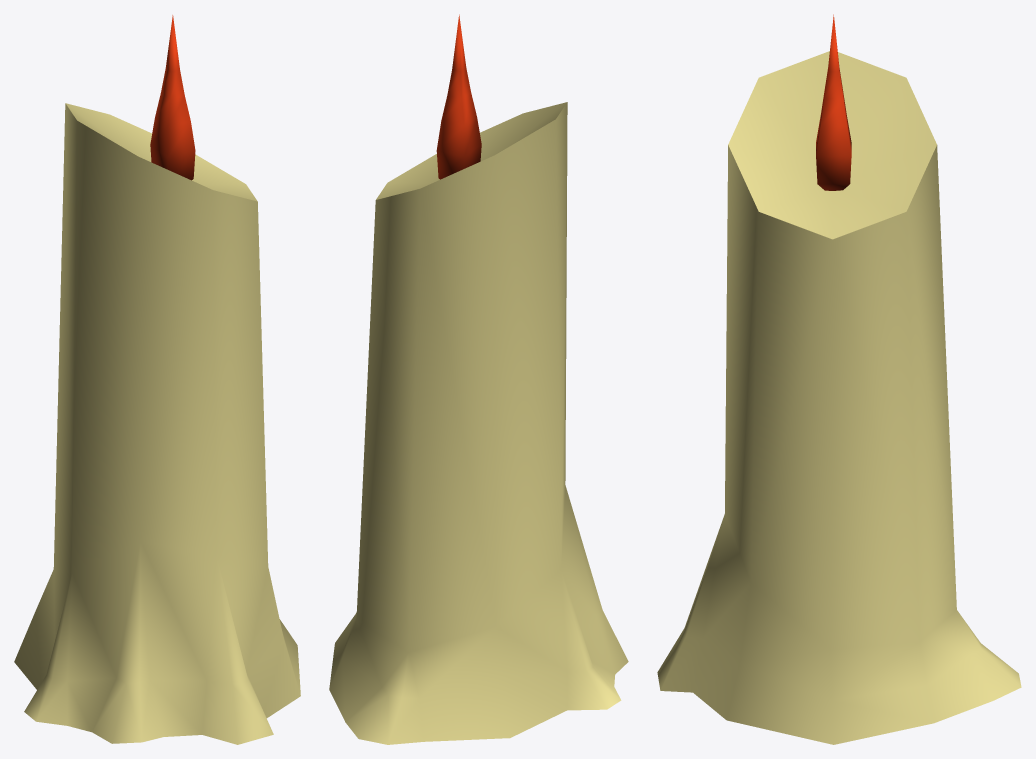
Rendered from obj_candle_B.FBX.
The picture shows the model from 3 angles, left to right: view 1: azimuth 30°, elevation 25°; view 2: azimuth 150°, elevation 25°; view 3: azimuth 270°, elevation 25°; orthographic projection.
Visible parts, largest first — view 1: obj_candle_B; view 2: obj_candle_B; view 3: obj_candle_B.
Part boxes in pixels (x1=…): obj_candle_B: x1=14, y1=15, x2=300, y2=744; obj_candle_B: x1=329, y1=14, x2=628, y2=744; obj_candle_B: x1=657, y1=14, x2=1021, y2=744.
Bounding box in the file's own units: 0.284 × 0.6541 × 0.3225.
